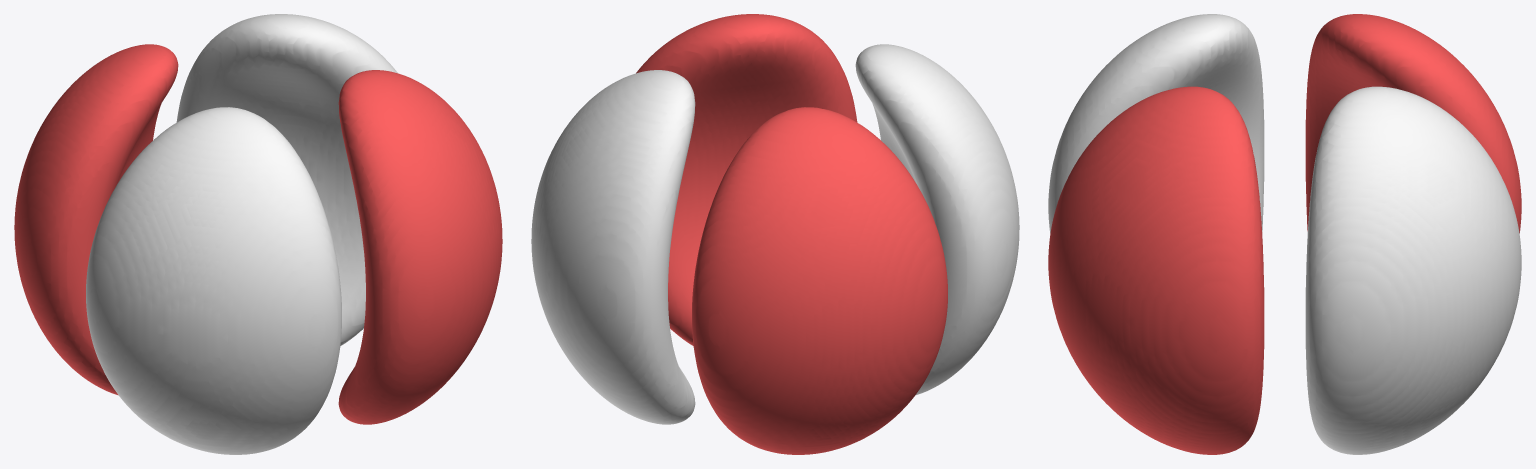
The model's file is d_dxz.glb.
3 views of the same model, side by side, from view 1: azimuth 30°, elevation 25°; view 2: azimuth 150°, elevation 25°; view 3: azimuth 270°, elevation 25° (orthographic). The views are drawn at different scales.
Parts seen in each view (by area): view 1: d_dxz; view 2: d_dxz; view 3: d_dxz.
Part boxes in pixels (x1=…): d_dxz: x1=14, y1=14, x2=502, y2=454; d_dxz: x1=531, y1=14, x2=1019, y2=454; d_dxz: x1=1048, y1=14, x2=1521, y2=454.
Size of the model in its own units: 1.84 by 1.51 by 1.84.
